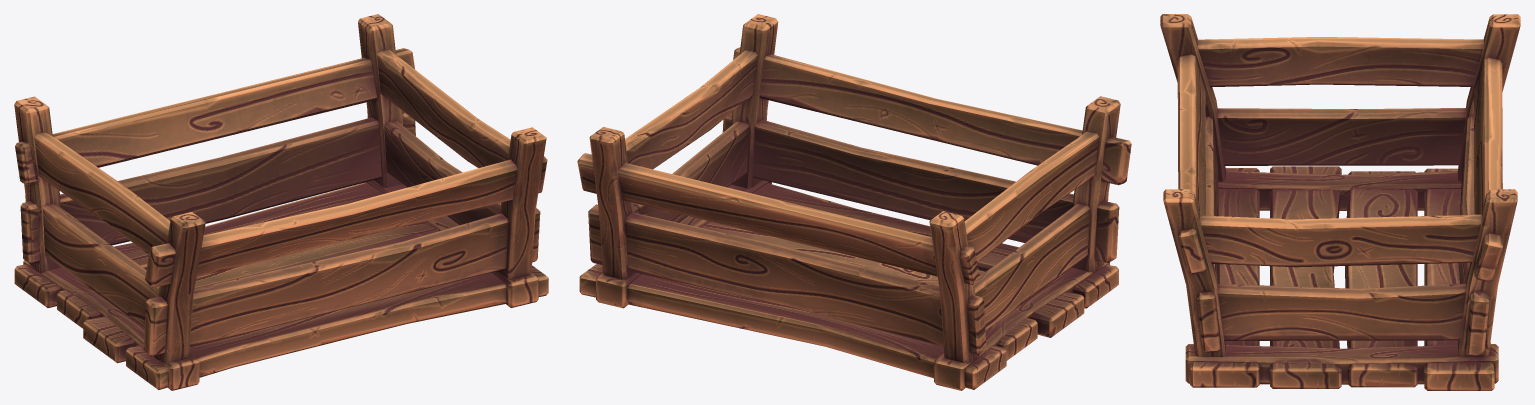
The model's file is kasa.fbx.
3 renders of one model, left to right at view 1: azimuth 30°, elevation 25°; view 2: azimuth 150°, elevation 25°; view 3: azimuth 270°, elevation 25°, orthographic. The views are drawn at different scales.
Visible parts, largest first — view 1: kasa_4_low_kasa_4_0; view 2: kasa_4_low_kasa_4_0; view 3: kasa_4_low_kasa_4_0.
Boxes of the visible parts, x1,y1,x2,y2 form: kasa_4_low_kasa_4_0: [14, 14, 548, 390]; kasa_4_low_kasa_4_0: [577, 14, 1131, 390]; kasa_4_low_kasa_4_0: [1160, 14, 1520, 390].
Size of the model in its own units: 125 by 51.49 by 91.54.
